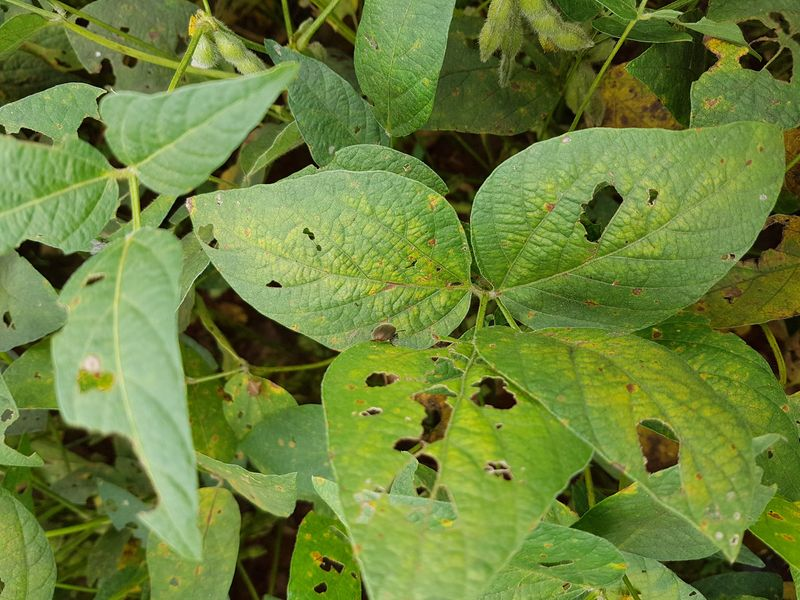Euschistus_heros_adulto: (240, 375, 268, 401)
Lagria_villosa: (360, 318, 410, 352)
